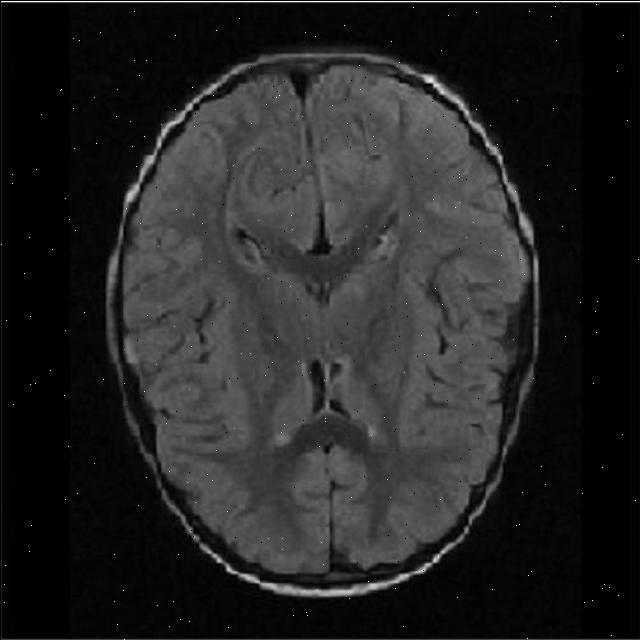No_Tumor: (107, 54, 538, 594)
